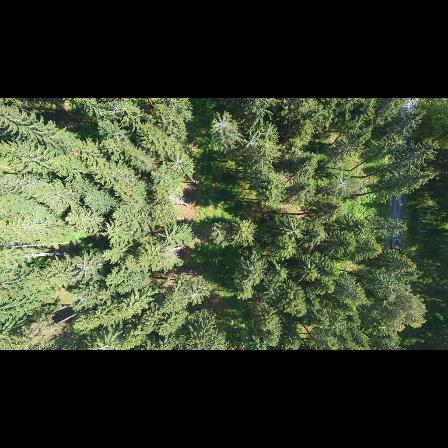Sick: (208, 111, 235, 135), (73, 257, 96, 282), (329, 172, 350, 194), (182, 285, 203, 304), (238, 134, 261, 151), (167, 153, 187, 172), (91, 336, 114, 350)
